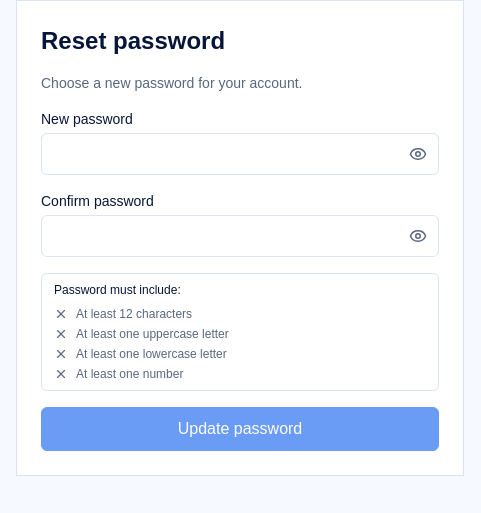
it: reset password form › enables submission only when the shared password policy passes
Check: the button "Update password" is disabled, box [41,407,439,451]
In the password field labelled "New password": (220, 154) [42,134,398,174], type "StrongerPass12"
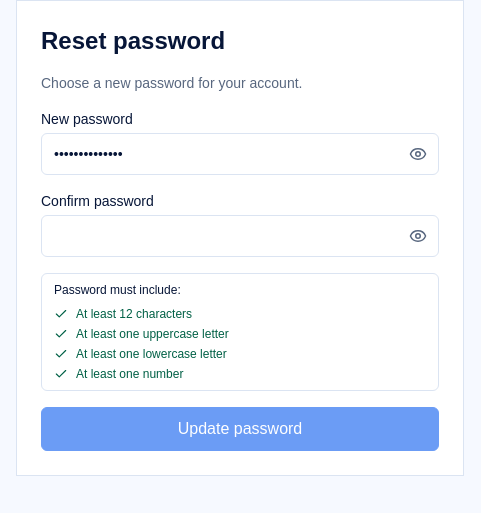
In the password field labelled "Confirm password": (220, 236) [42,216,398,256], type "StrongerPass12"
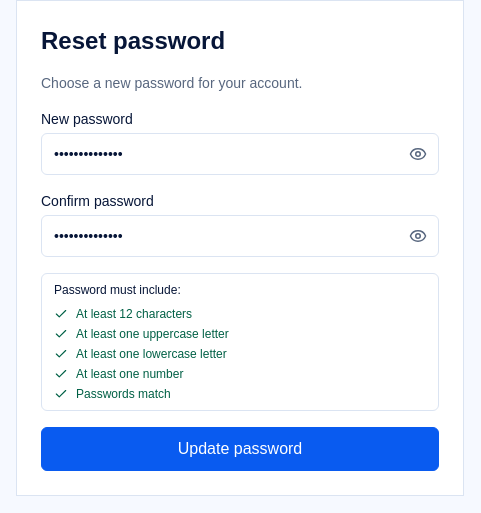
Check: the button "Update password" is enabled, box [41,427,439,471]
